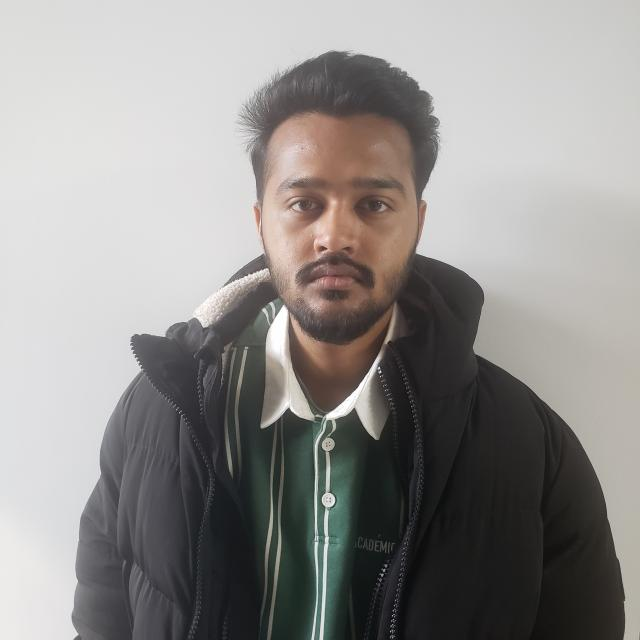sad: (236, 37, 440, 359)
